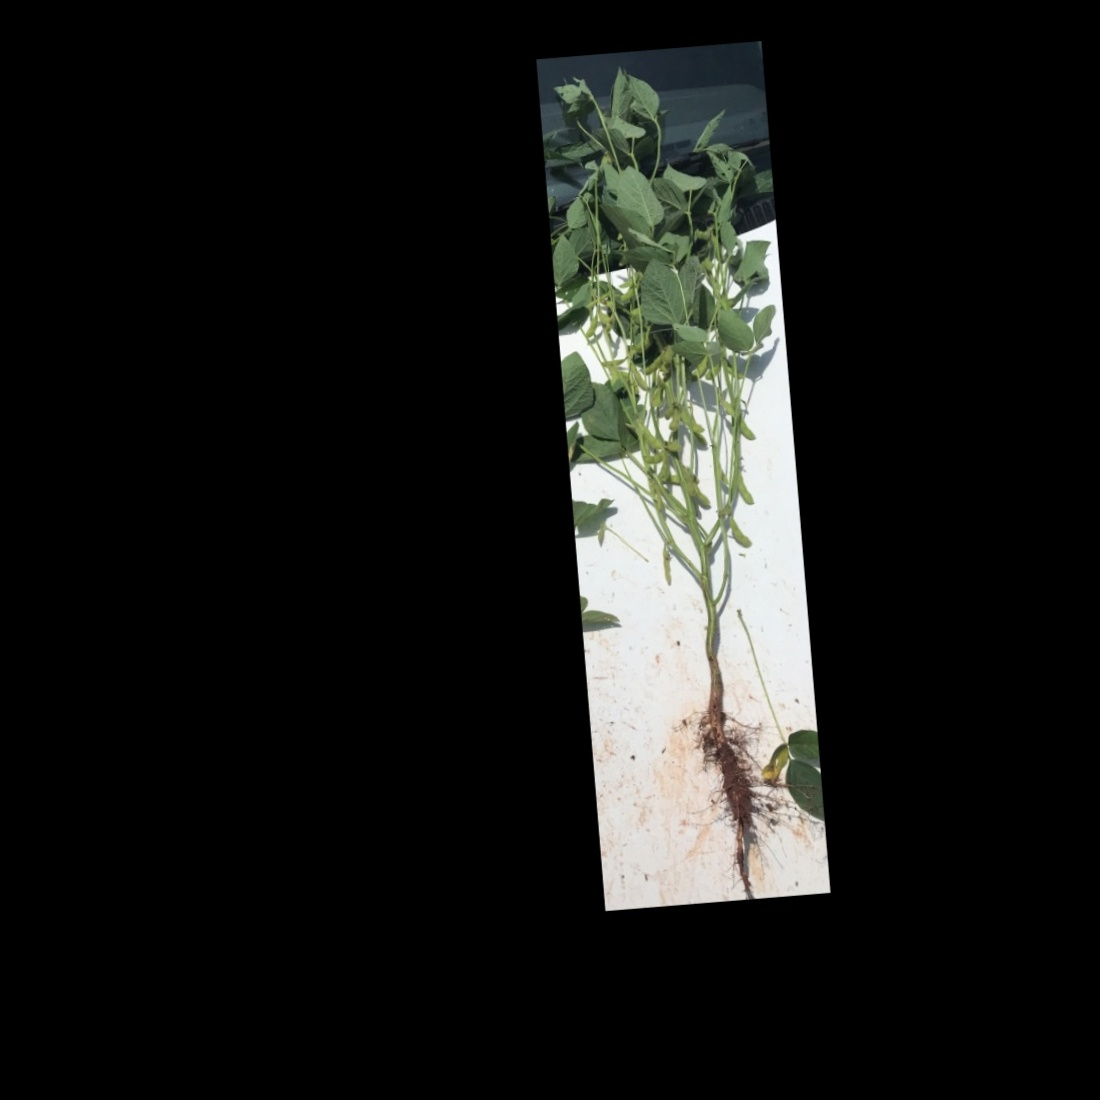pod: (725, 512, 759, 554), (733, 465, 757, 510), (630, 362, 651, 397), (688, 356, 711, 382), (738, 412, 758, 443), (581, 312, 598, 342), (638, 451, 668, 466)
soy: (553, 63, 818, 857)
